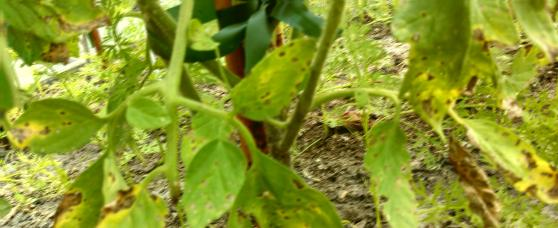Tomato Septoria leaf spot: (390, 6, 483, 135), (455, 115, 558, 200), (232, 36, 313, 125), (1, 95, 100, 163), (177, 137, 250, 228), (364, 118, 420, 228), (40, 155, 120, 228), (78, 181, 165, 228)
